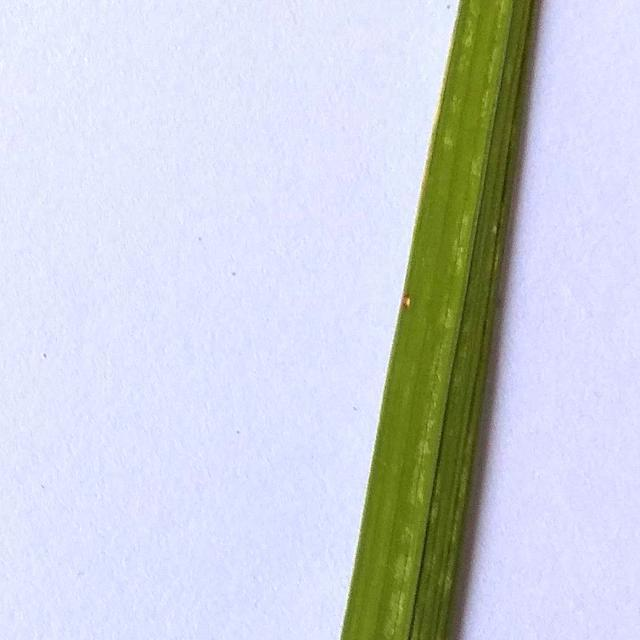Blast: (404, 293, 412, 308)
